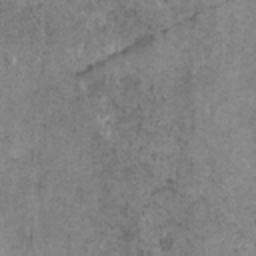Finishing roll printing: (74, 32, 157, 78), (160, 12, 193, 32)
